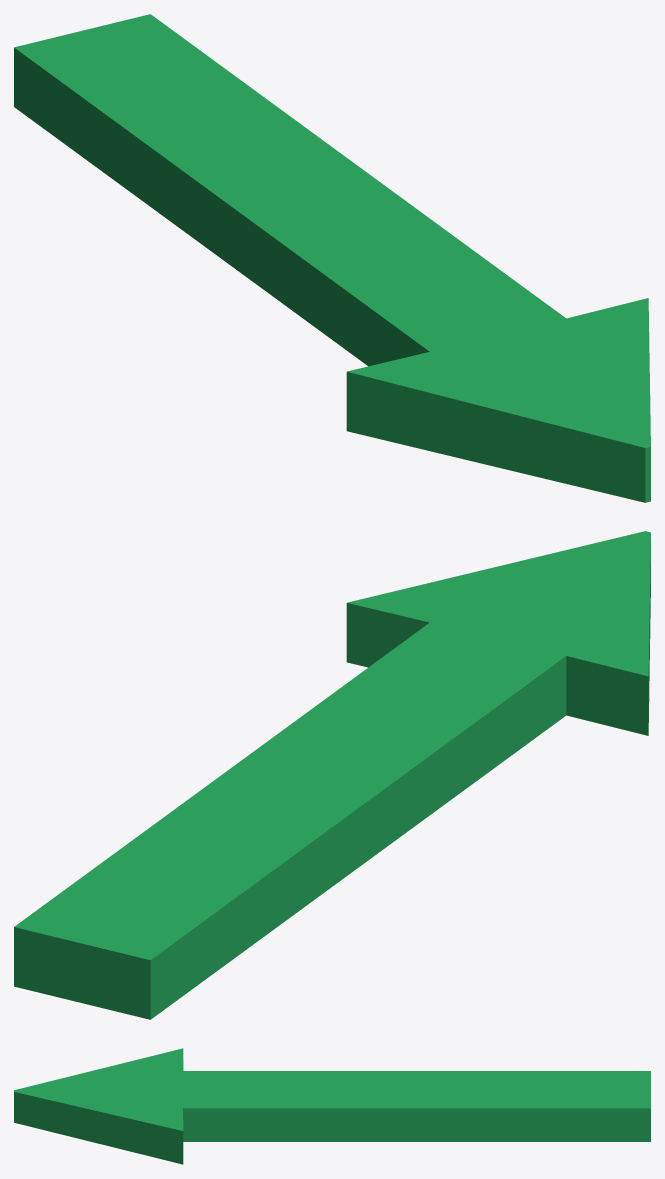
Rendered from arrow-straight.fbx.
The picture shows the model from 3 angles, top to bottom: view 1: azimuth 30°, elevation 25°; view 2: azimuth 150°, elevation 25°; view 3: azimuth 270°, elevation 25°; orthographic projection. The views are drawn at different scales.
Parts seen in each view (by area): view 1: Cube; view 2: Cube; view 3: Cube.
Part boxes in pixels (box(x1,y1,x2,y2)): Cube: box(14, 14, 650, 502); Cube: box(14, 531, 650, 1019); Cube: box(14, 1048, 650, 1164).
Bounding box in the file's own units: 123 × 23.16 × 399.
